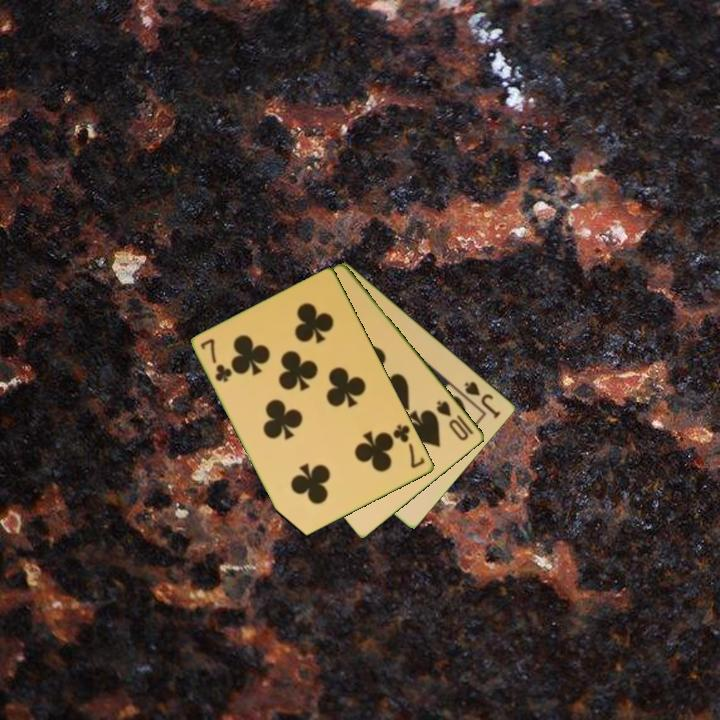10s: (433, 397, 472, 444)
7c: (389, 421, 428, 472), (197, 335, 235, 385)
Js: (461, 377, 504, 421)
